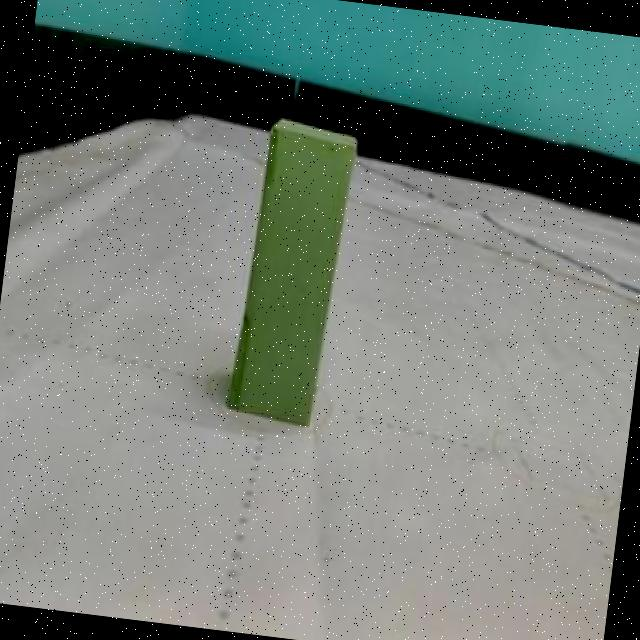greenbox: (218, 107, 366, 430)
